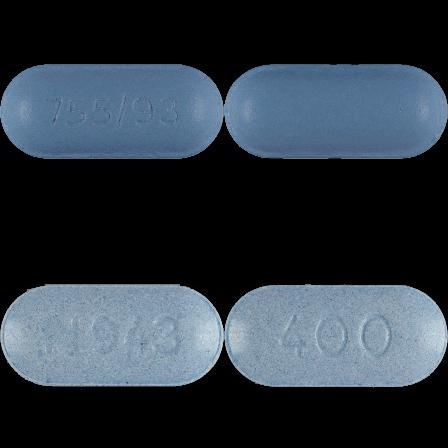55289-460: (0, 0, 224, 224)
